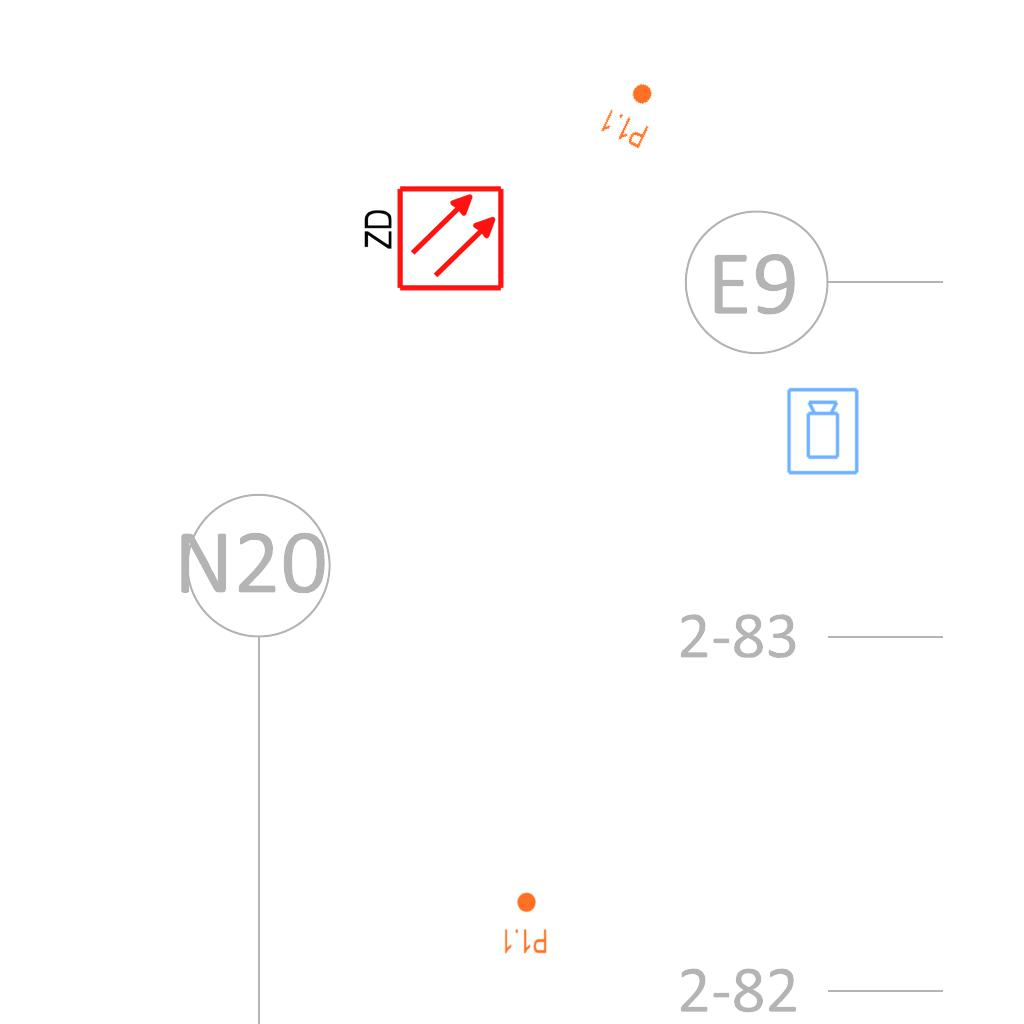Downlight_LED_Einbauleuchten_Flur: (597, 73, 667, 151), (502, 891, 548, 955)
KFO_Kamera_mit_Festobjektiv: (785, 386, 862, 477)
ZD_Melder_in_Zwischendecke_mit_Revisionsoeffnung_mind_40_x_40_cm: (357, 183, 506, 297)
